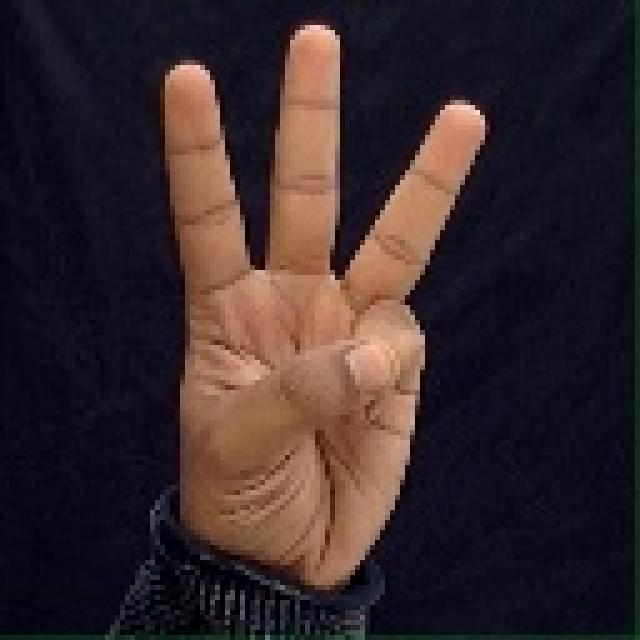Numeric-3: (154, 19, 490, 605)
